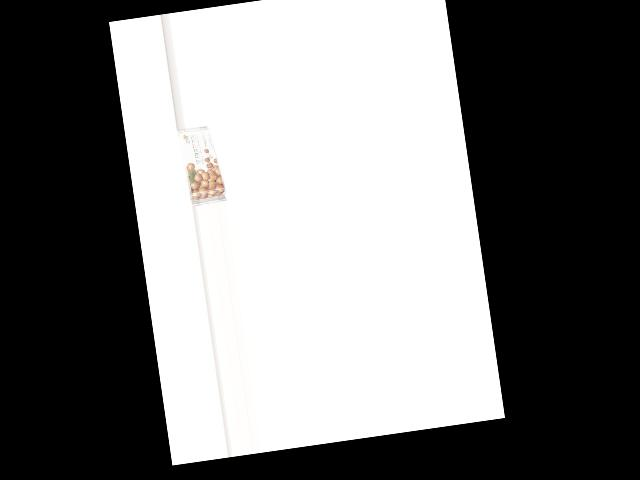chocolate: (179, 123, 227, 205)
